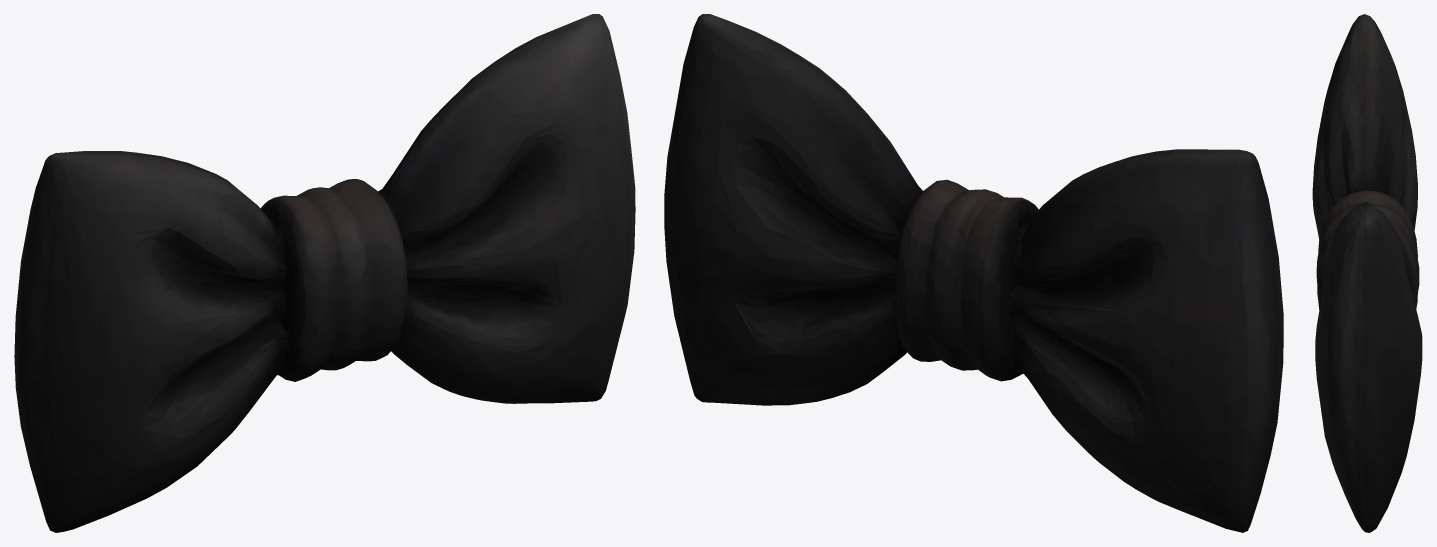
The model's file is black_bow_tie.glb.
3 renders of one model, left to right at view 1: azimuth 30°, elevation 25°; view 2: azimuth 150°, elevation 25°; view 3: azimuth 270°, elevation 25°, orthographic. The views are drawn at different scales.
Parts seen in each view (by area): view 1: geometry_0; view 2: geometry_0; view 3: geometry_0.
Part boxes in pixels (<box>): geometry_0: <box>14,14,635,532</box>; geometry_0: <box>664,14,1283,532</box>; geometry_0: <box>1312,14,1422,532</box>.
Size of the model in its own units: 0.28 by 0.1706 by 0.0546.
1 material, 1 textured.
